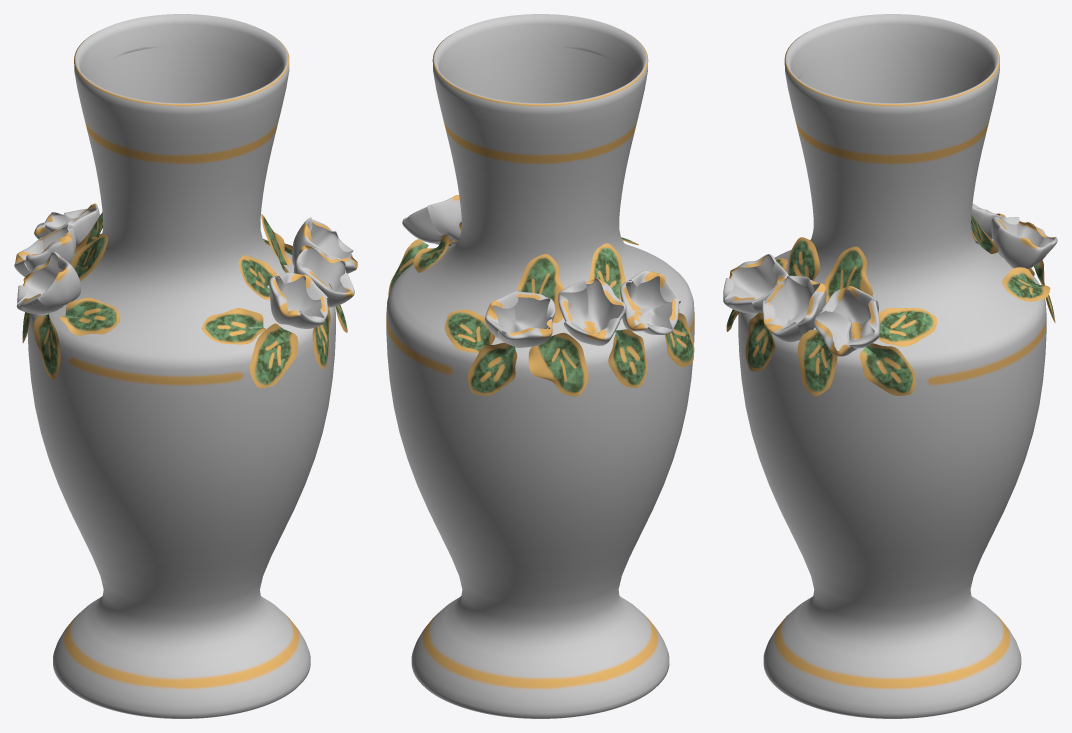
The model's file is FbxGrandVase_Intact.fbx.
3 renders of one model, left to right at view 1: azimuth 30°, elevation 25°; view 2: azimuth 150°, elevation 25°; view 3: azimuth 270°, elevation 25°, orthographic.
Parts seen in each view (by area): view 1: GrandVase_intact; view 2: GrandVase_intact; view 3: GrandVase_intact.
Boxes of the visible parts, <box> form: GrandVase_intact: <box>14,14,357,718</box>; GrandVase_intact: <box>386,14,694,718</box>; GrandVase_intact: <box>723,14,1057,718</box>.
Bounding box in the file's own units: 51.26 × 99.68 × 49.73.
